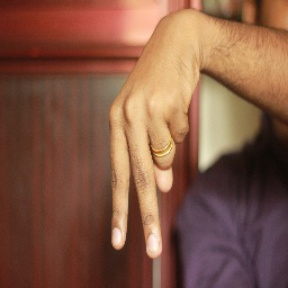Y: (105, 74, 193, 260)
